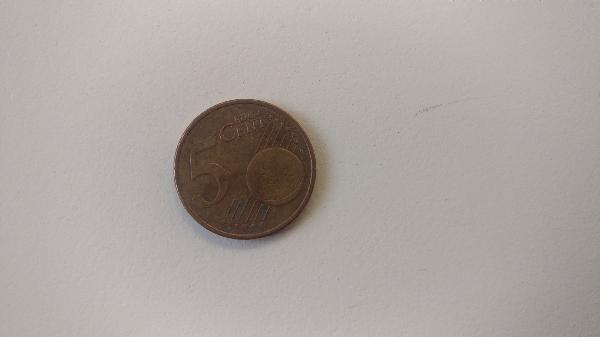Five Cent: (171, 96, 321, 240)
